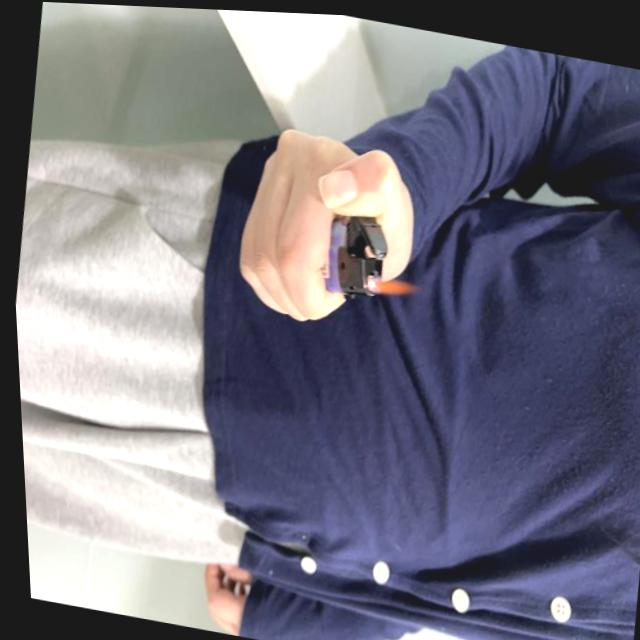Fire: (360, 269, 417, 299)
